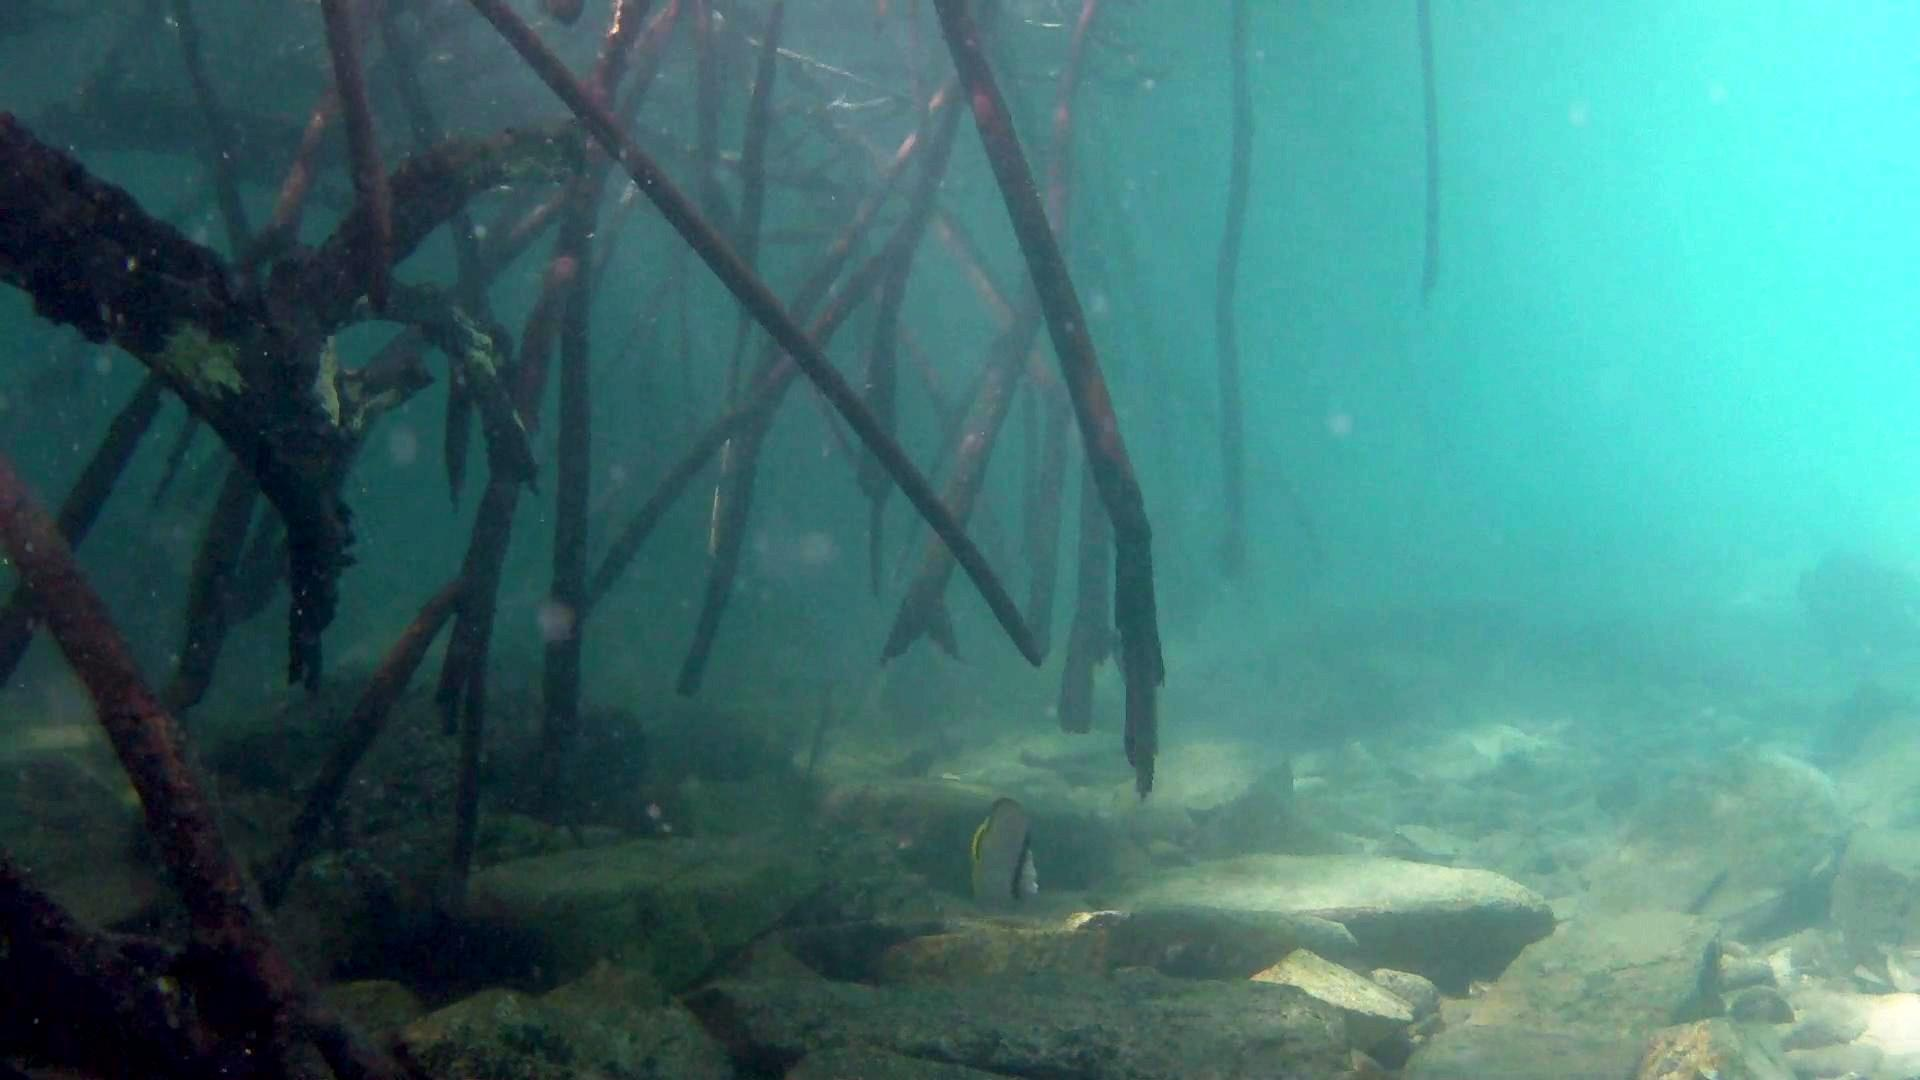chaetodon vagabundus: (967, 795, 1043, 911)
